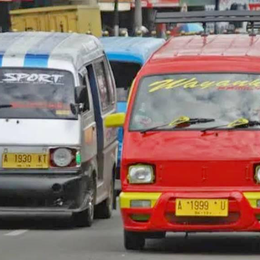plate: (174, 198, 229, 216)
